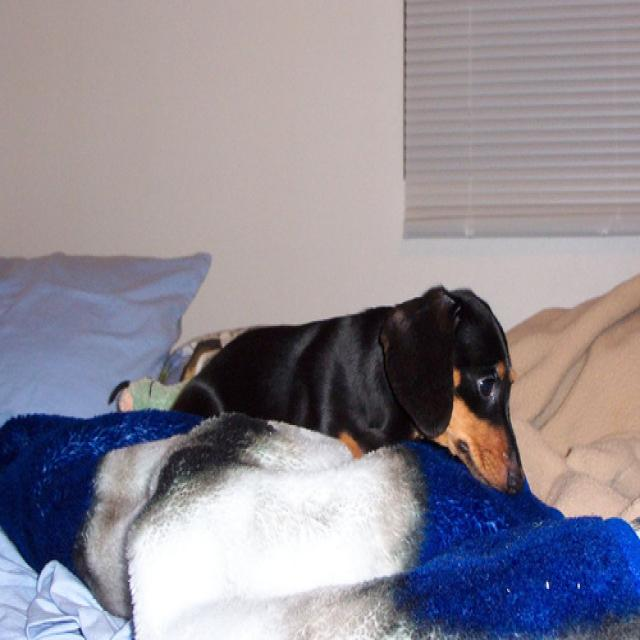dog: (170, 284, 526, 498)
